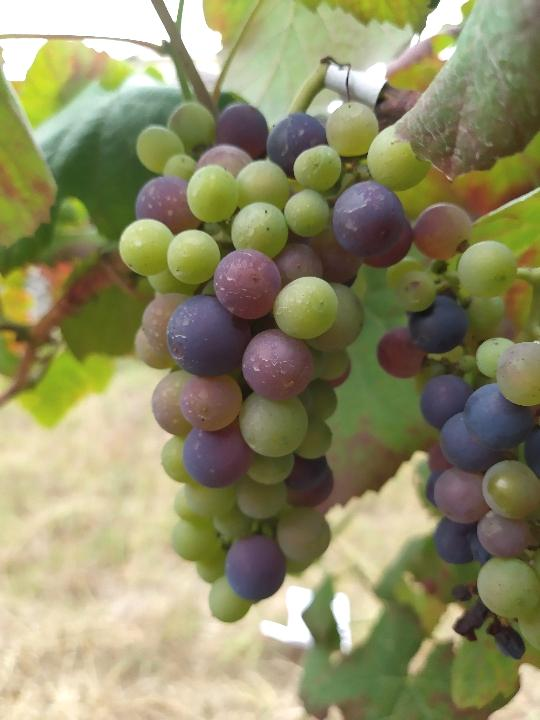grape: (116, 99, 434, 625)
